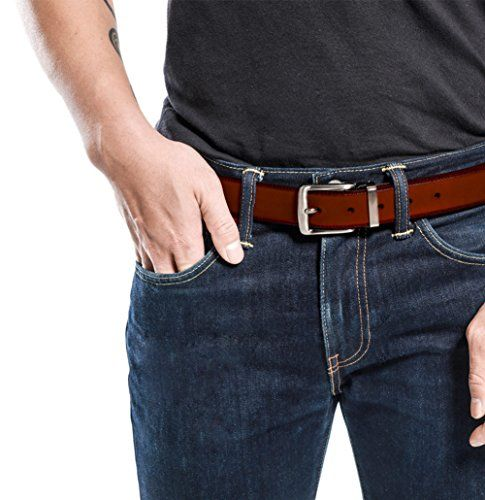C_jeans: (121, 153, 485, 494)
F_belt: (213, 174, 485, 238)
